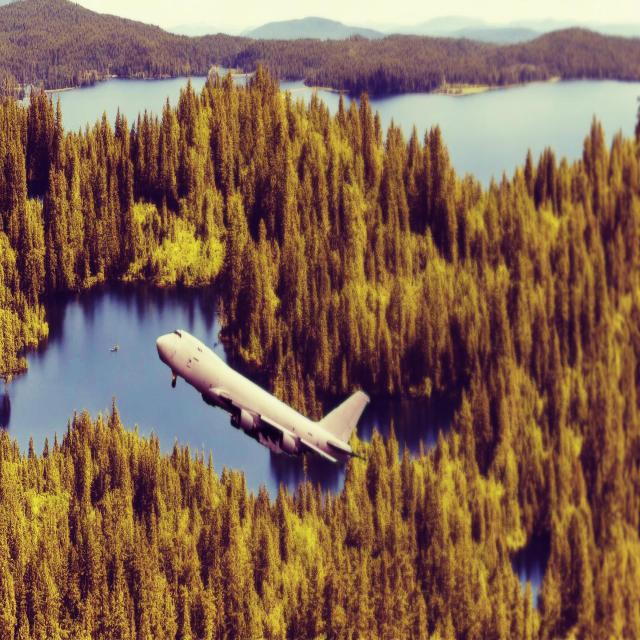airplane: (156, 327, 370, 465)
